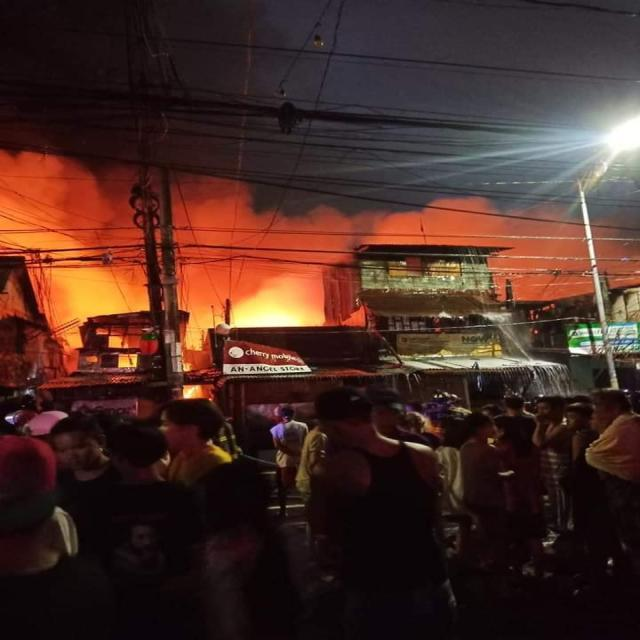Smoke: (178, 178, 330, 322), (2, 150, 132, 247), (43, 252, 137, 316)
